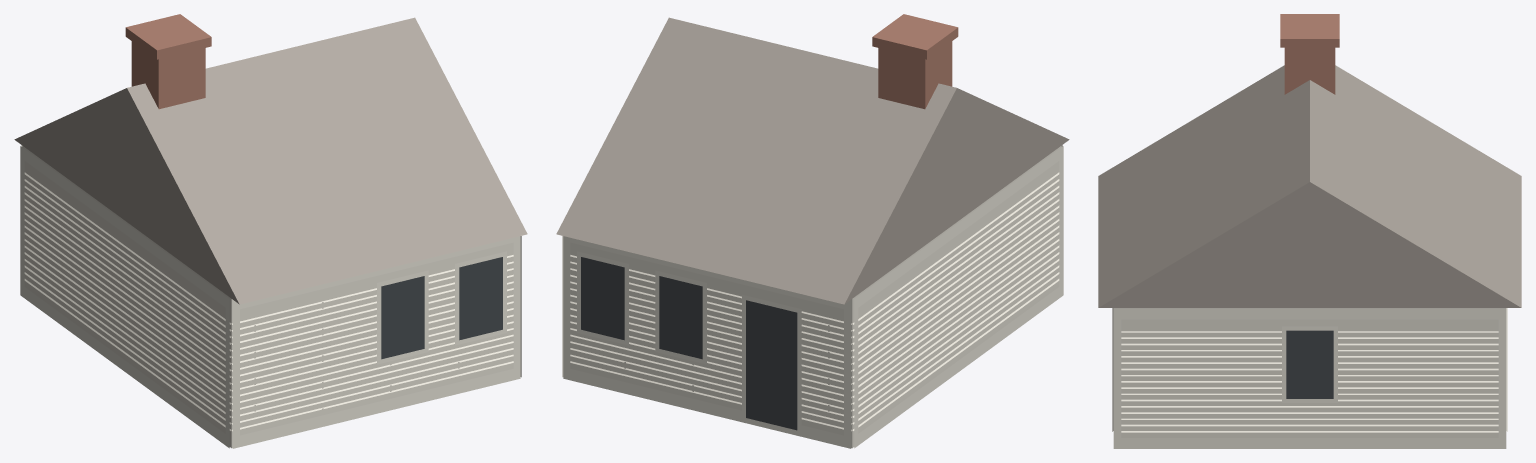
File: recon_1835_north_d3_055__inferred_1835.glb
The picture shows the model from 3 angles, left to right: view 1: azimuth 30°, elevation 25°; view 2: azimuth 150°, elevation 25°; view 3: azimuth 270°, elevation 25°; orthographic projection. The views are drawn at different scales.
Visible parts, largest first — view 1: recon_1835_north_d3_055__inferred_1835; view 2: recon_1835_north_d3_055__inferred_1835; view 3: recon_1835_north_d3_055__inferred_1835.
Part boxes in pixels (left/top/right/bottom): recon_1835_north_d3_055__inferred_1835: left=14, top=14, right=527, bottom=448; recon_1835_north_d3_055__inferred_1835: left=556, top=14, right=1069, bottom=448; recon_1835_north_d3_055__inferred_1835: left=1098, top=14, right=1521, bottom=448.
Bounding box in the file's own units: 5.25 × 5.65 × 7.01.
